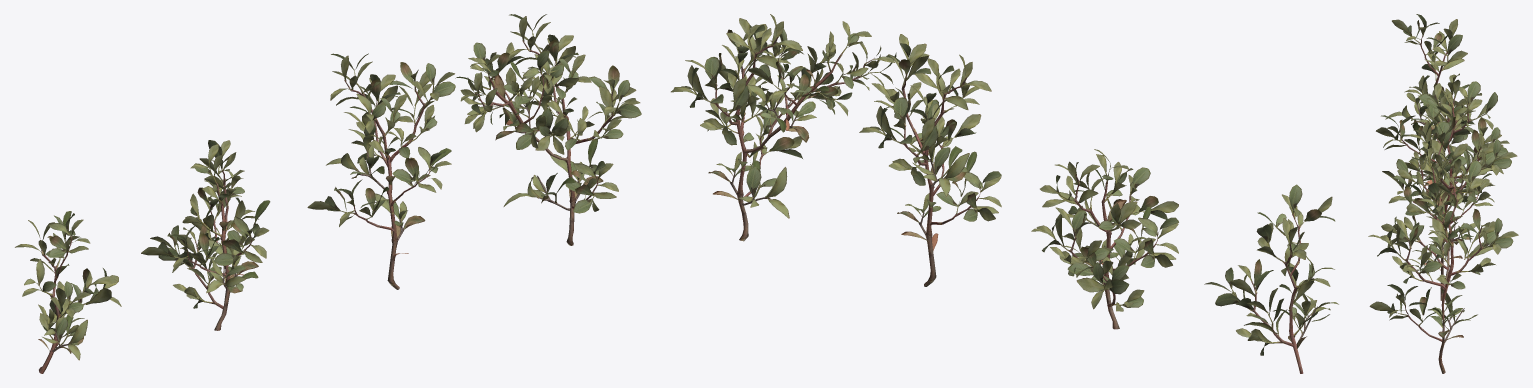
File: shrub_04.glb
The picture shows the model from 3 angles, left to right: view 1: azimuth 30°, elevation 25°; view 2: azimuth 150°, elevation 25°; view 3: azimuth 270°, elevation 25°; orthographic projection. The views are drawn at different scales.
Visible parts, largest first — view 1: shrub_04; view 2: shrub_04; view 3: shrub_04.
Part boxes in pixels (left/top/right/bottom): shrub_04: left=15, top=14, right=641, bottom=373; shrub_04: left=671, top=14, right=1338, bottom=373; shrub_04: left=1368, top=14, right=1518, bottom=373.
Bounding box in the file's own units: 0.5837 × 0.2192 × 0.1461.
Materials: 1 (1 with a texture image).
